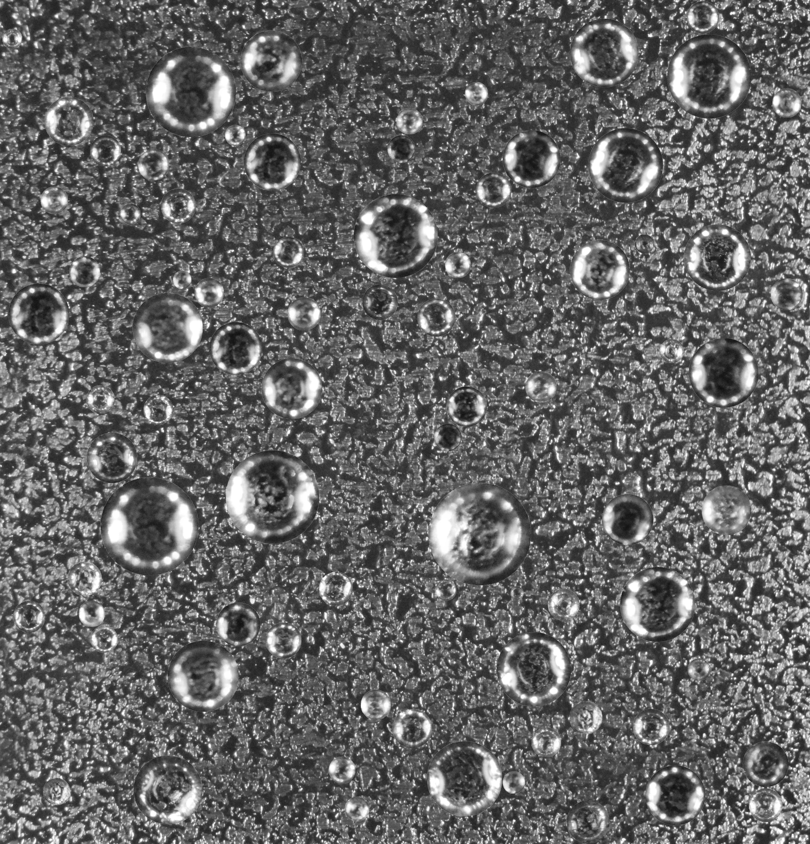Bubble: (428, 482, 531, 585), (100, 477, 198, 575), (225, 450, 319, 543), (145, 46, 235, 136), (667, 34, 751, 118), (353, 194, 437, 277), (427, 741, 502, 816), (496, 632, 571, 706), (620, 567, 695, 641), (588, 128, 663, 202), (167, 640, 238, 711), (132, 292, 202, 362), (133, 755, 202, 824), (689, 338, 758, 407), (570, 18, 638, 87), (684, 224, 750, 290), (240, 30, 301, 91), (8, 283, 69, 344), (261, 358, 322, 418), (645, 765, 705, 825), (570, 240, 629, 299), (502, 130, 560, 187), (243, 133, 300, 190), (209, 322, 262, 374), (602, 494, 653, 545), (86, 432, 137, 483), (701, 485, 751, 535), (44, 96, 93, 145), (743, 741, 788, 787), (216, 602, 260, 646), (566, 800, 609, 843), (446, 386, 486, 426), (392, 709, 431, 748), (417, 298, 455, 336), (633, 708, 669, 745), (265, 622, 301, 658), (476, 172, 511, 207), (362, 284, 397, 319), (160, 188, 195, 223), (67, 561, 101, 595), (749, 788, 782, 822), (319, 572, 352, 605), (287, 297, 320, 330), (569, 701, 602, 734), (770, 278, 802, 310), (13, 600, 45, 632), (687, 1, 719, 33), (548, 588, 579, 620), (525, 371, 556, 402), (138, 149, 169, 180), (273, 236, 304, 267), (69, 256, 100, 287), (90, 135, 120, 166), (360, 689, 390, 719), (531, 727, 561, 757), (143, 395, 173, 424), (194, 278, 223, 307), (772, 88, 801, 117), (86, 385, 114, 413), (434, 423, 461, 451), (387, 135, 415, 162), (40, 186, 67, 213), (90, 625, 117, 652), (328, 756, 355, 783), (43, 778, 70, 805), (78, 600, 104, 626), (396, 108, 422, 134), (445, 252, 470, 277), (344, 796, 369, 821), (659, 339, 683, 363), (465, 82, 488, 105), (502, 771, 525, 793), (687, 658, 710, 680), (435, 579, 456, 600), (120, 203, 140, 224), (225, 125, 245, 145), (2, 28, 22, 48), (635, 234, 654, 253), (173, 270, 191, 289), (510, 586, 523, 599)
